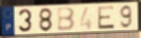3: (17, 8, 34, 33)
4: (79, 6, 94, 31)
8: (38, 7, 54, 33)
9: (119, 4, 134, 29)
B: (56, 7, 76, 32)
E: (96, 5, 116, 31)
